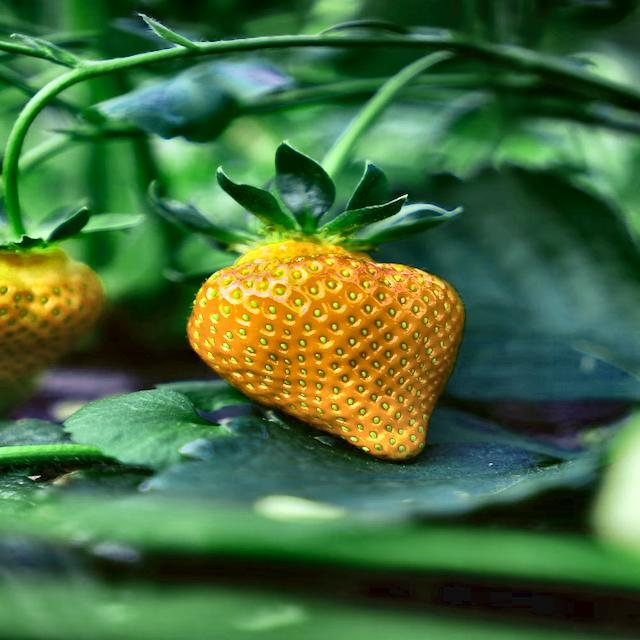strawberry: (188, 239, 464, 459), (0, 246, 104, 381)
